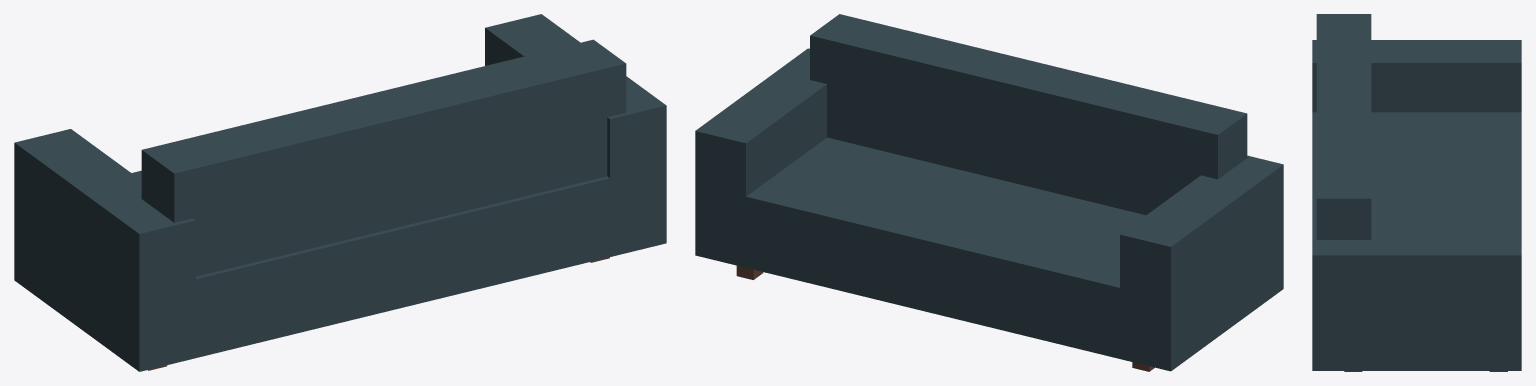
3 views of the same model, side by side, from view 1: azimuth 30°, elevation 25°; view 2: azimuth 150°, elevation 25°; view 3: azimuth 270°, elevation 25° (orthographic). The views are drawn at different scales.
Parts seen in each view (by area): view 1: node_MeshObject-1318880704-PolyPaper17; view 2: node_MeshObject-1318880704-PolyPaper17; view 3: node_MeshObject-1318880704-PolyPaper17.
Part boxes in pixels (left/top/right/bottom): node_MeshObject-1318880704-PolyPaper17: left=14, top=14, right=666, bottom=371; node_MeshObject-1318880704-PolyPaper17: left=695, top=14, right=1283, bottom=371; node_MeshObject-1318880704-PolyPaper17: left=1312, top=14, right=1521, bottom=371.
Bounding box in the file's own units: 0.56 × 0.21 × 0.23.
